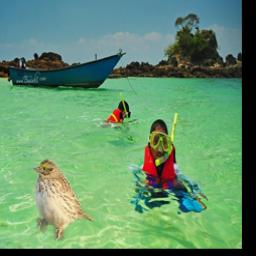Sparrow: (31, 158, 95, 241)
